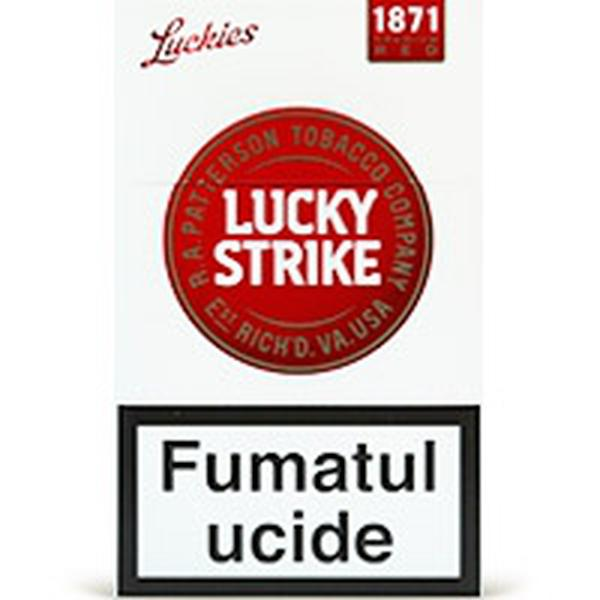lucky_strike_red: (110, 2, 489, 600)
